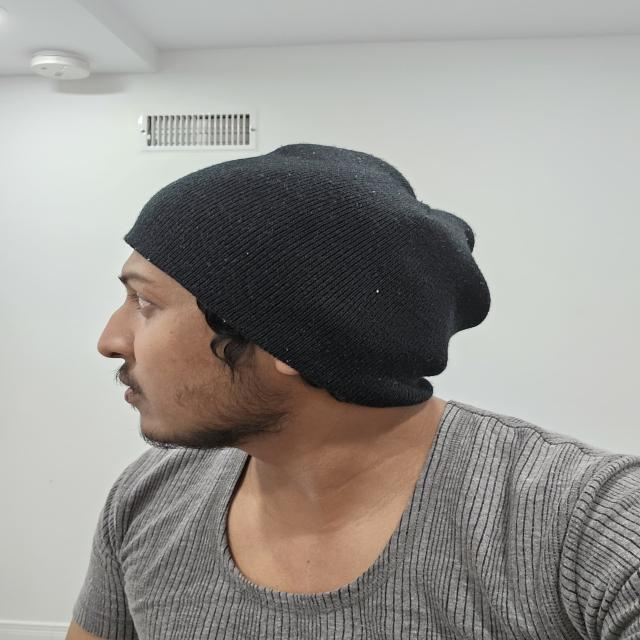cap: (111, 132, 496, 370)
